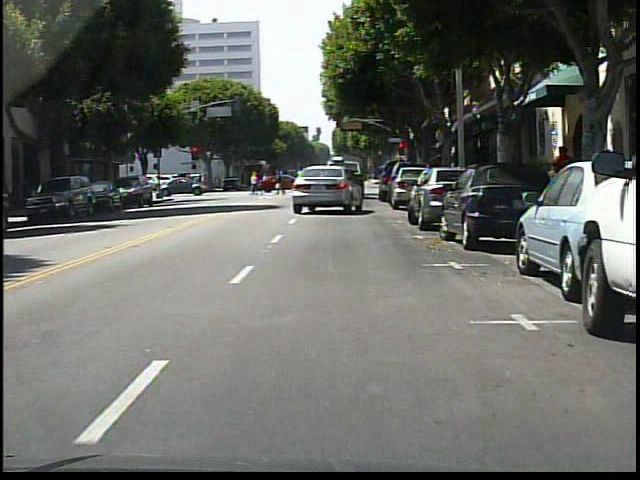person: (552, 142, 579, 205), (276, 168, 288, 196), (250, 171, 263, 195), (262, 173, 268, 189)
